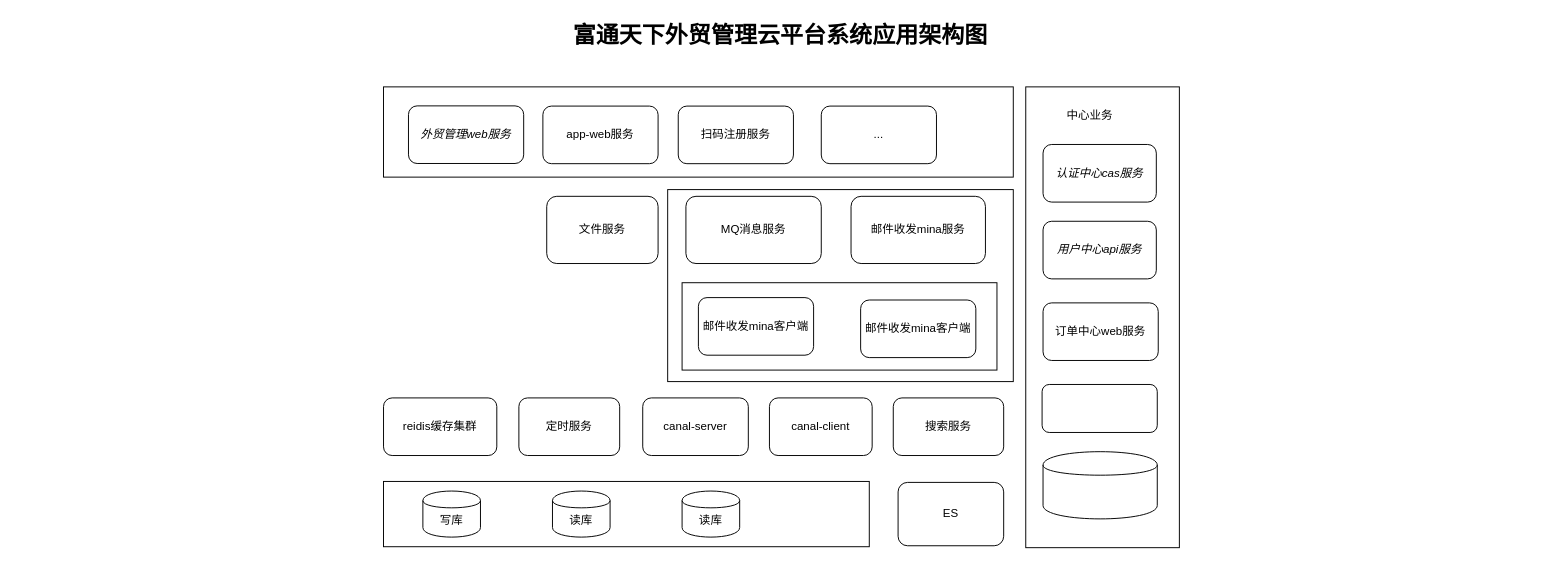
The diagram is 1559 pixels wide and 564 high, and some of its shapes have lost their labels. The shapes that lost their labels are listed below. From the top down, each one's centre as x and y in pixels, then its label:
[1099,408]: redis
[1099,485]: 用户中心库
